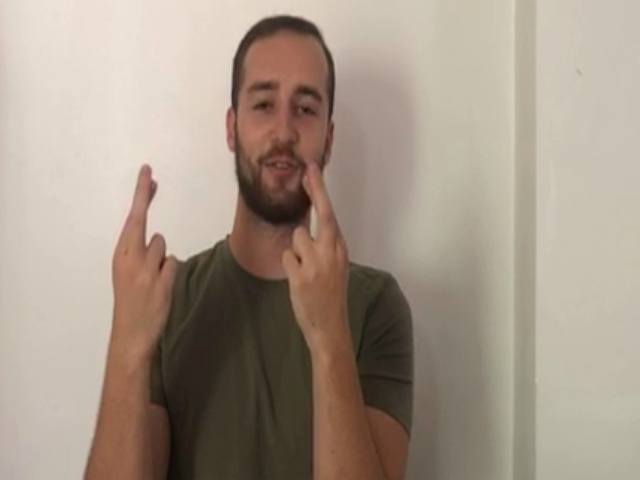Nadevanja: (103, 160, 362, 369)
